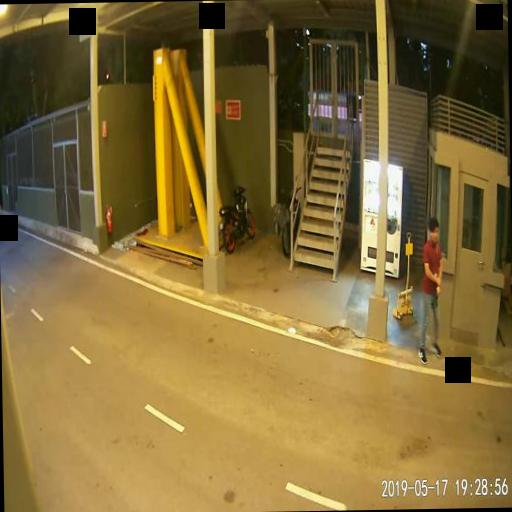Handgun: (432, 285, 440, 306)
